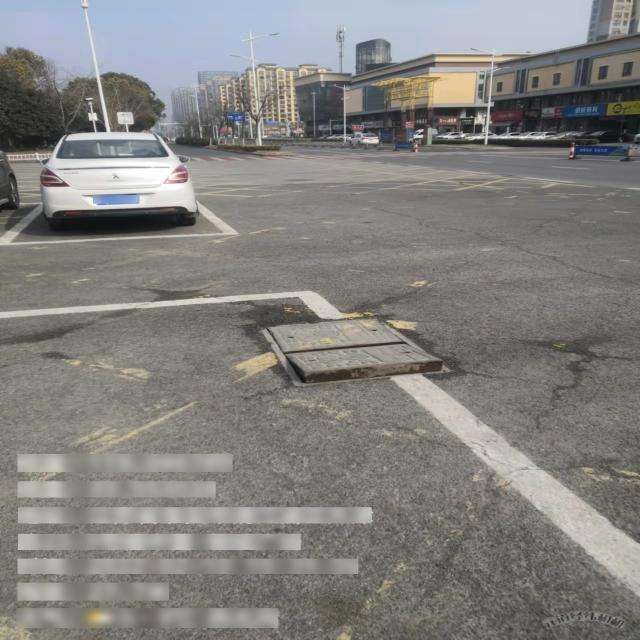Lose: (262, 317, 451, 389)
